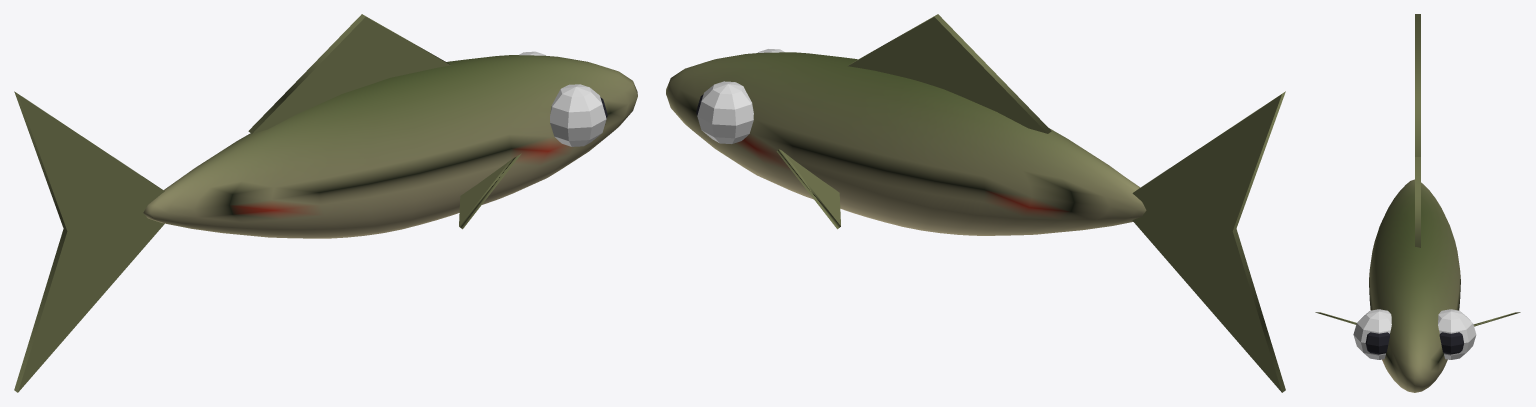
The model's file is fish_riv1_lite.glb.
3 renders of one model, left to right at view 1: azimuth 30°, elevation 25°; view 2: azimuth 150°, elevation 25°; view 3: azimuth 270°, elevation 25°, orthographic. The views are drawn at different scales.
Parts seen in each view (by area): view 1: p; view 2: p; view 3: p.
Boxes of the visible parts, x1=… form: p: x1=14, y1=14, x2=637, y2=392; p: x1=666, y1=14, x2=1285, y2=392; p: x1=1315, y1=14, x2=1520, y2=392.
Size of the model in its own units: 1.13 by 0.52 by 0.405.
